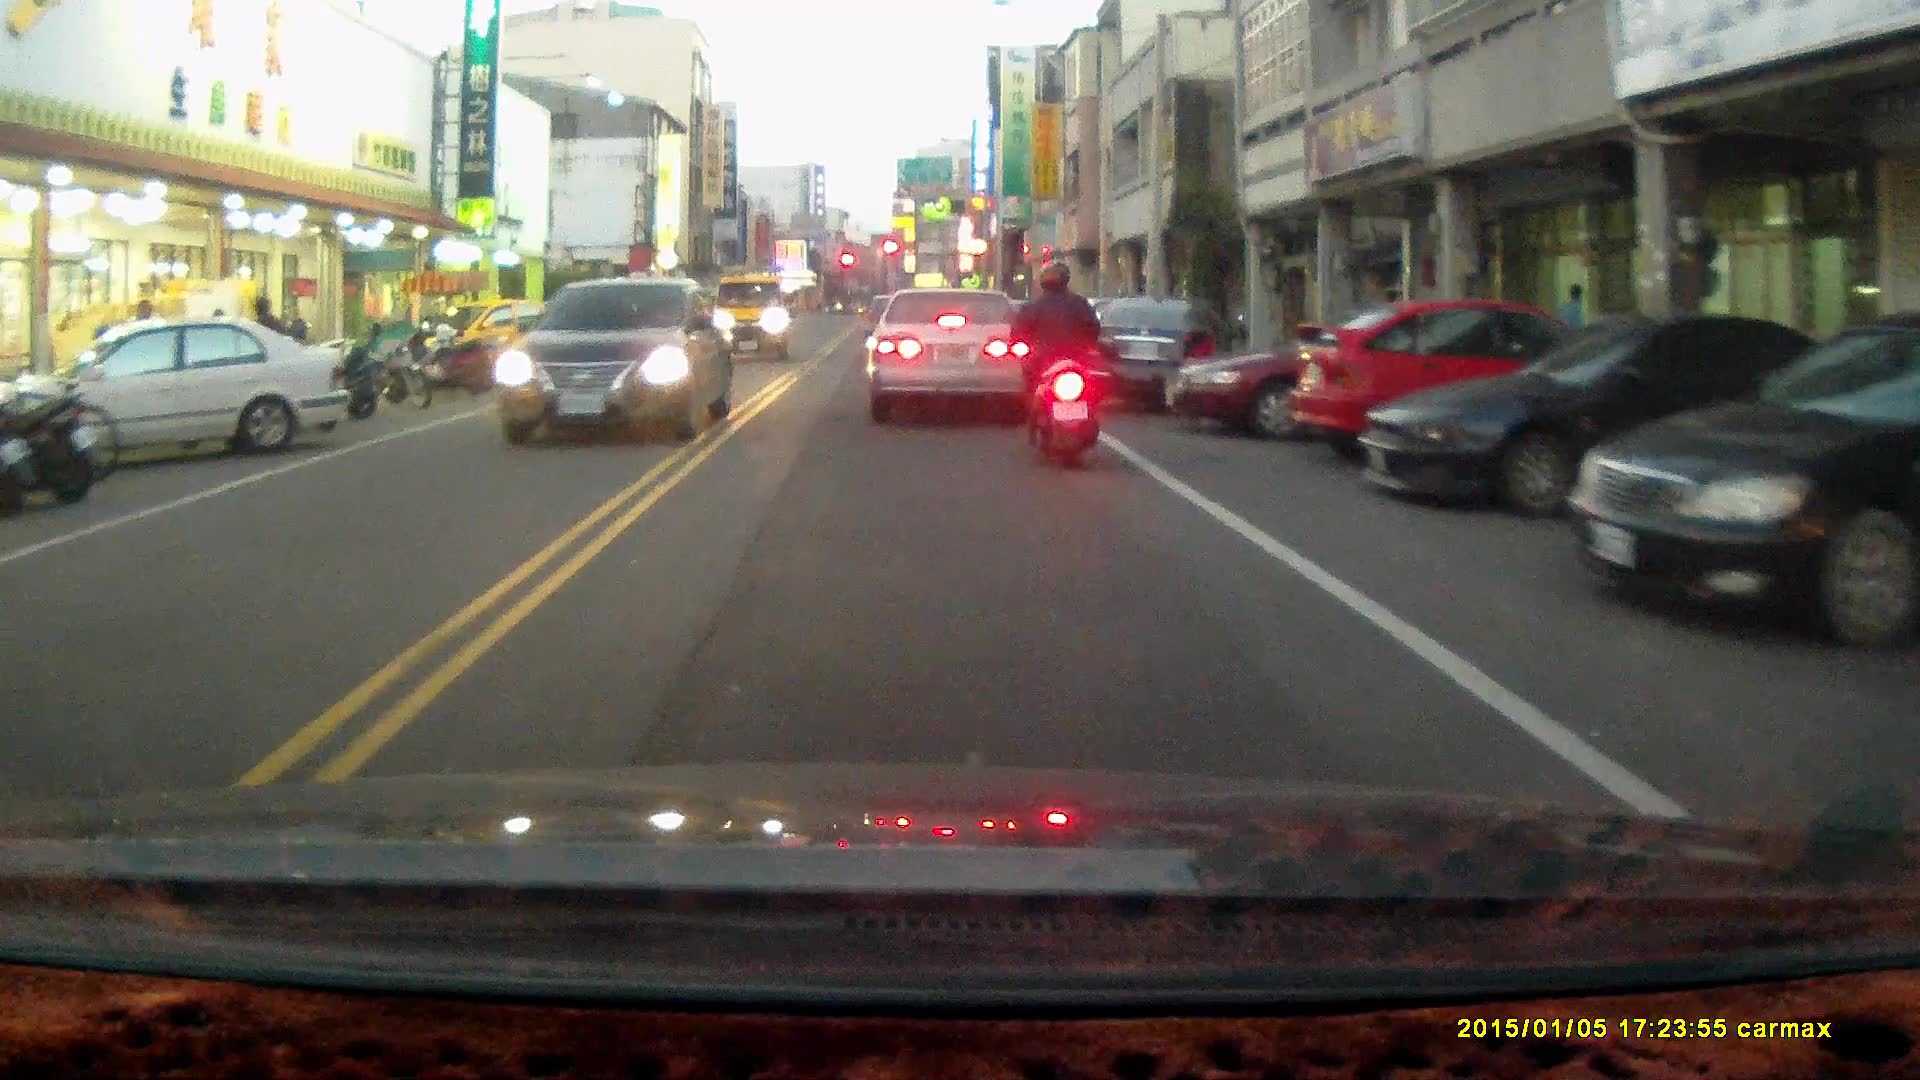rider: (1004, 257, 1109, 472)
vehicle: (1562, 320, 1920, 647), (1362, 314, 1816, 522), (1284, 296, 1641, 465), (1159, 314, 1544, 447), (2, 317, 335, 467), (494, 272, 730, 443), (865, 286, 1039, 419), (1074, 295, 1220, 416), (455, 302, 587, 381), (708, 274, 791, 363)
